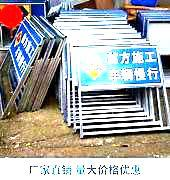sign: (80, 49, 163, 87), (10, 33, 36, 78)
